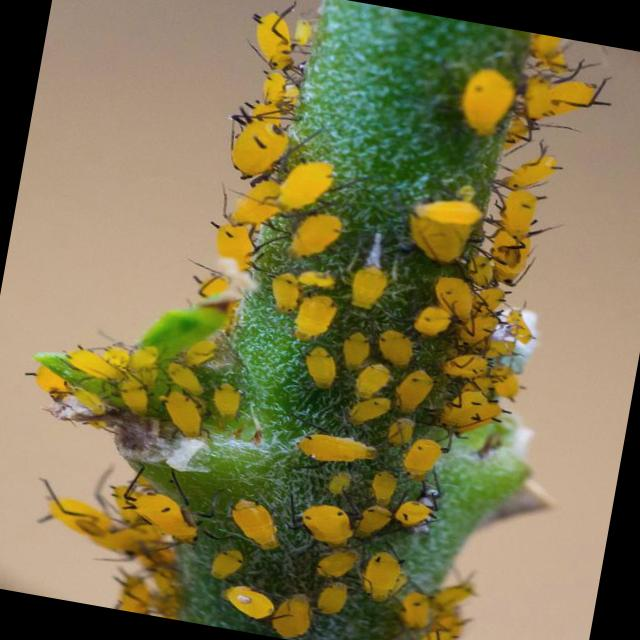Aphids: (438, 50, 528, 163), (200, 100, 308, 194), (212, 0, 319, 85), (510, 53, 614, 140), (398, 186, 491, 274), (122, 472, 217, 552), (283, 415, 391, 476), (216, 164, 295, 245), (269, 147, 344, 221), (214, 488, 288, 558), (287, 488, 363, 554), (150, 384, 224, 450), (284, 201, 358, 267), (490, 138, 567, 200), (393, 426, 461, 491), (262, 582, 336, 640), (285, 338, 353, 400), (351, 544, 412, 607), (439, 382, 502, 443), (424, 269, 485, 328), (334, 383, 396, 436), (215, 578, 286, 622), (258, 265, 312, 321), (55, 344, 118, 389), (154, 357, 217, 400), (387, 364, 442, 411), (392, 492, 439, 546), (366, 324, 418, 365), (334, 328, 379, 374), (355, 496, 391, 546), (344, 353, 390, 392), (252, 64, 289, 110)
